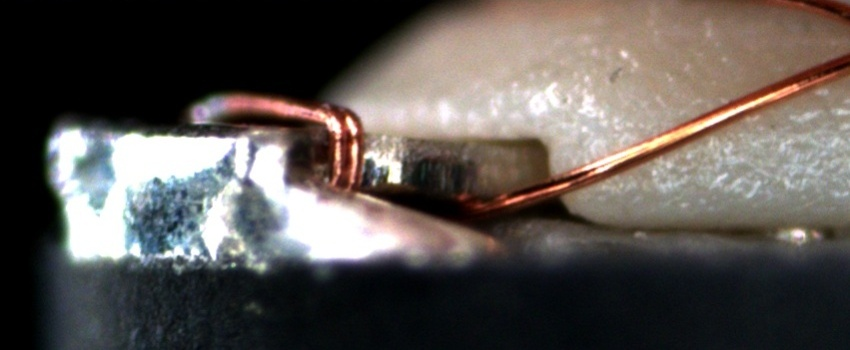DL: (754, 110, 849, 152)
TE: (186, 93, 372, 206)
